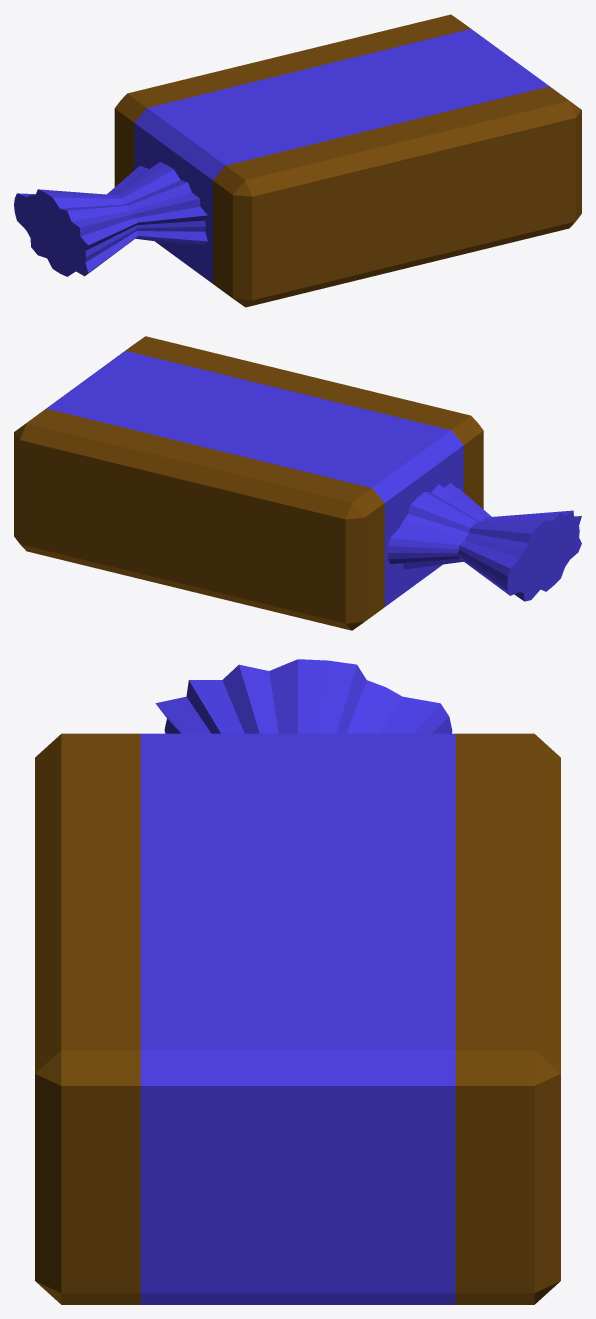
The model's file is ruikkaripussi.fbx.
3 renders of one model, top to bottom at view 1: azimuth 30°, elevation 25°; view 2: azimuth 150°, elevation 25°; view 3: azimuth 270°, elevation 25°, orthographic. The views are drawn at different scales.
Parts seen in each view (by area): view 1: Cube.001, Cone, Cone.001; view 2: Cube.001, Cone, Cone.001; view 3: Cube.001, Cone.
Part boxes in pixels (x1=…): Cube.001: x1=114, y1=14, x2=581, y2=307; Cone: x1=14, y1=189, x2=137, y2=276; Cone.001: x1=107, y1=162, x2=207, y2=245; Cube.001: x1=14, y1=336, x2=483, y2=630; Cone: x1=458, y1=510, x2=581, y2=601; Cone.001: x1=387, y1=483, x2=491, y2=569; Cube.001: x1=35, y1=733, x2=560, y2=1304; Cone: x1=155, y1=659, x2=452, y2=733.
Bounding box in the file's own units: 413 × 107 × 200.
